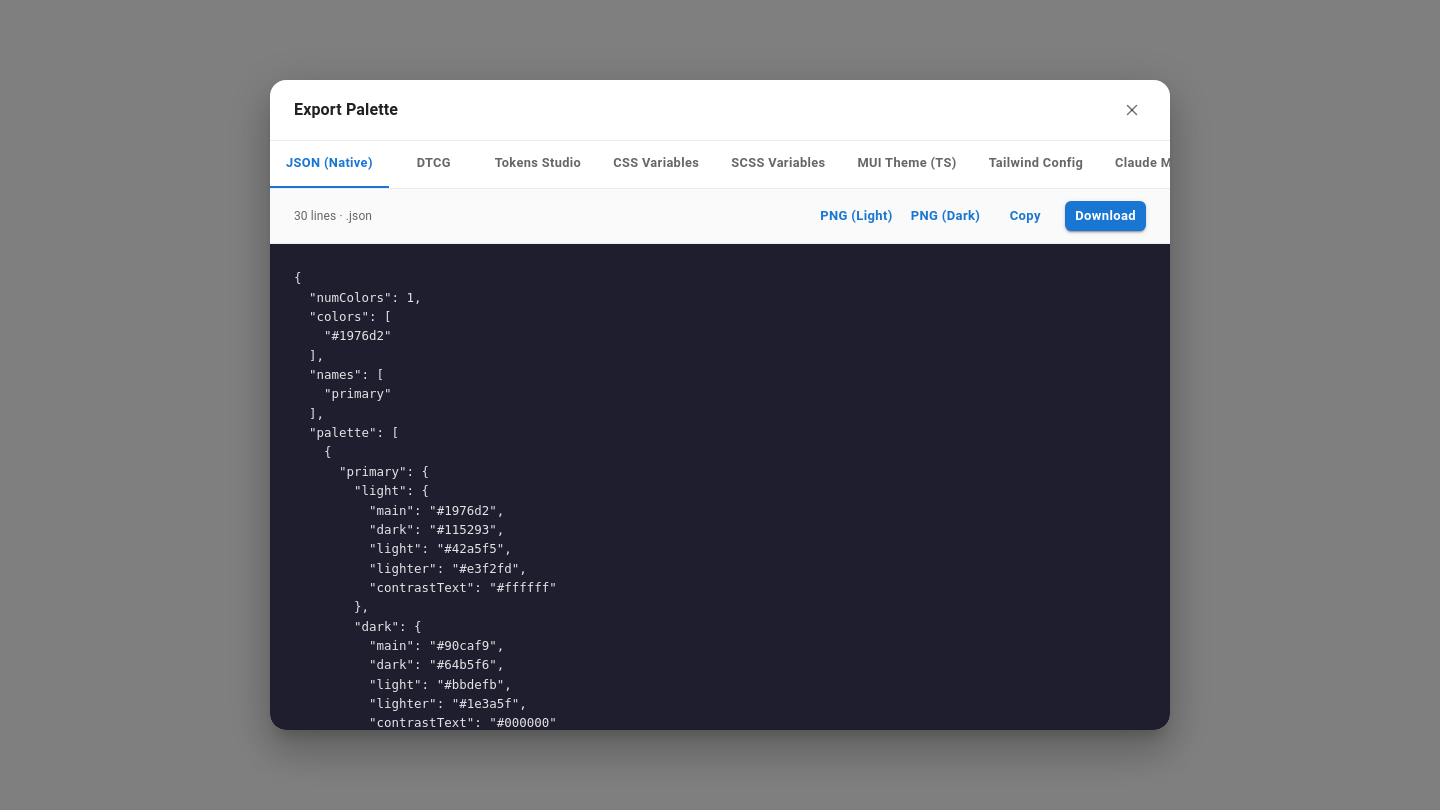
ExportHubDialog › switches to Tailwind tab
Click the tab "Tailwind Config".
click(1036, 163)  # box [973,141,1099,185]
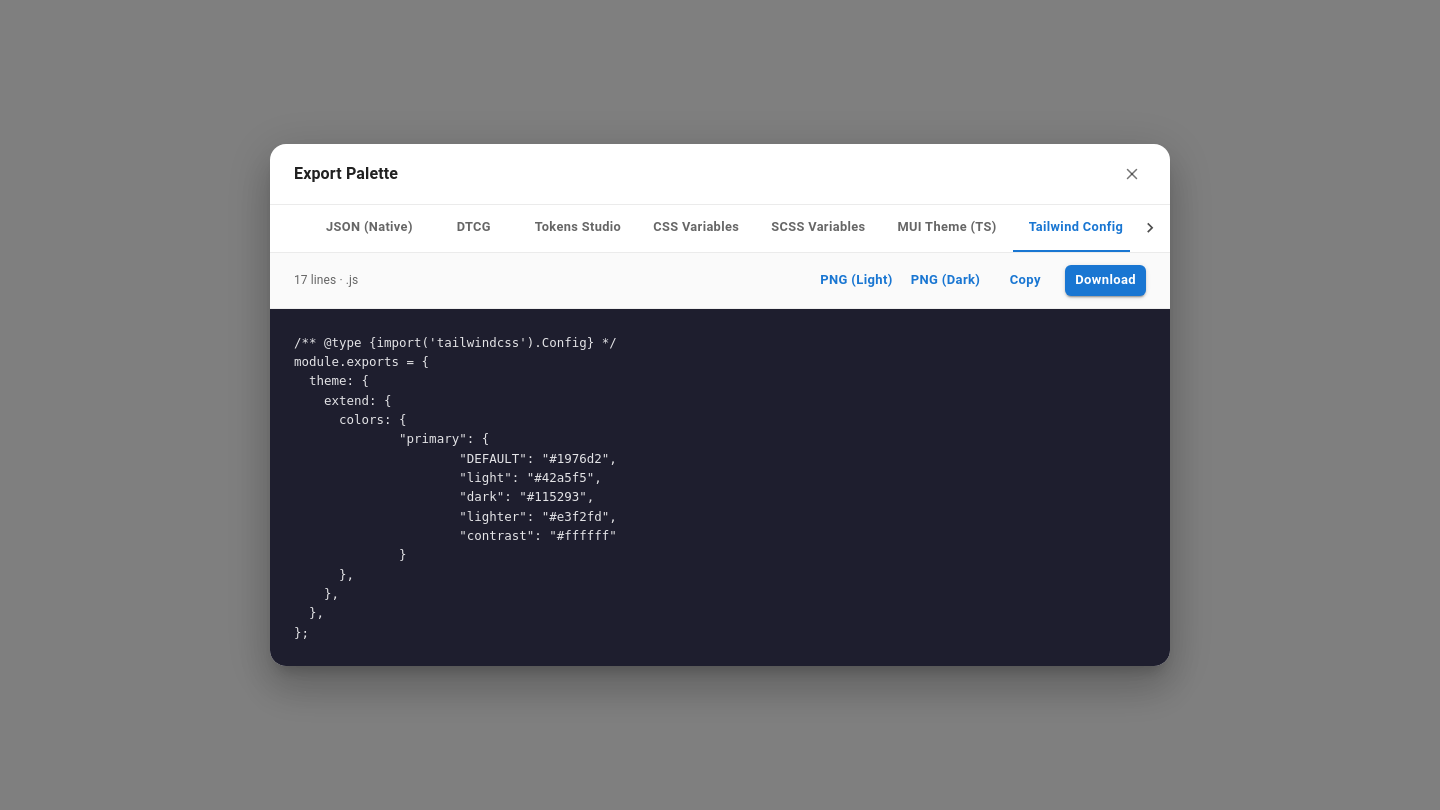
Expected: the text "module.exports" is shown, [294,335,617,640]
